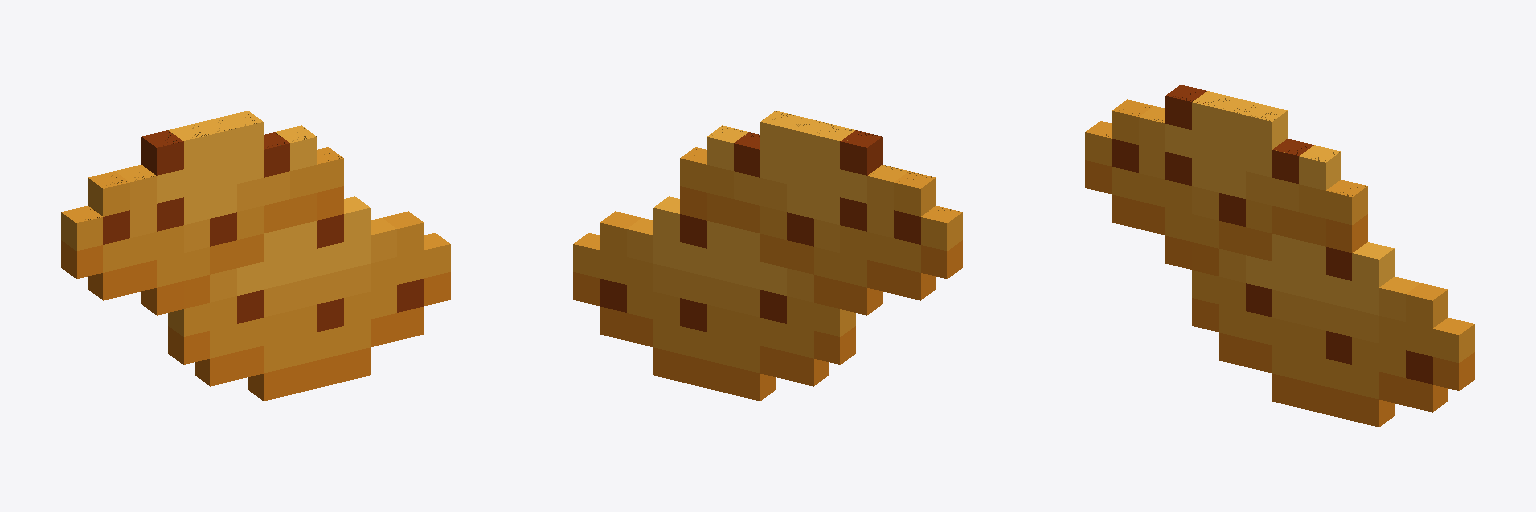
3 renders of one model, left to right at view 1: azimuth 30°, elevation 25°; view 2: azimuth 150°, elevation 25°; view 3: azimuth 330°, elevation 25°, orthographic.
Bounding box in the file's own units: 0.875 × 0.625 × 0.0625.
Materials: 1 (1 with a texture image).